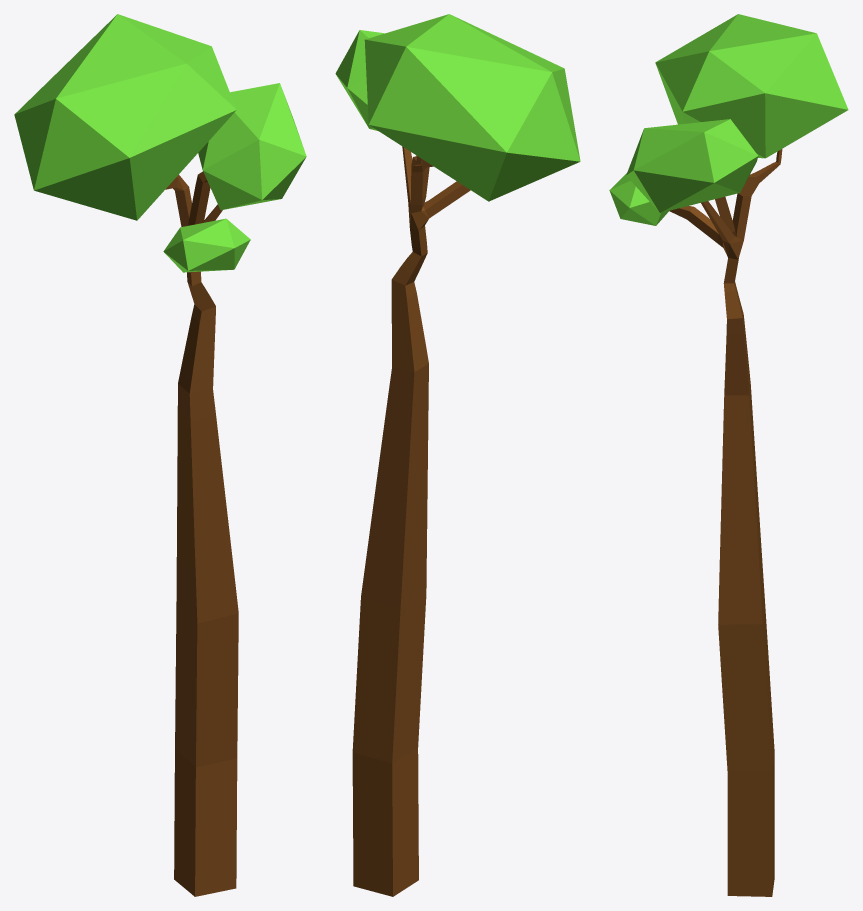
The model's file is Arvore_Tipo2_MarinaPardalP01.fbx.
3 renders of one model, left to right at view 1: azimuth 30°, elevation 25°; view 2: azimuth 150°, elevation 25°; view 3: azimuth 270°, elevation 25°, orthographic. The views are drawn at different scales.
Parts seen in each view (by area): view 1: Cube.061, Icosphere.2823, Icosphere.066, Icosphere.088; view 2: Cube.061, Icosphere.2823, Icosphere.066; view 3: Cube.061, Icosphere.2823, Icosphere.066, Icosphere.088.
Boxes of the visible parts, x1,y1,x2,y2 form: Cube.061: (165,171,238,896); Icosphere.2823: (14,14,236,220); Icosphere.066: (198,83,306,210); Icosphere.088: (163,218,250,272); Cube.061: (352,146,470,896); Icosphere.2823: (364,14,580,201); Icosphere.066: (335,30,384,130); Cube.061: (669,149,782,896); Icosphere.2823: (655,14,848,158); Icosphere.066: (626,119,758,212); Icosphere.088: (609,173,669,225).
Size of the model in its own units: 2791 by 9161 by 2397.
